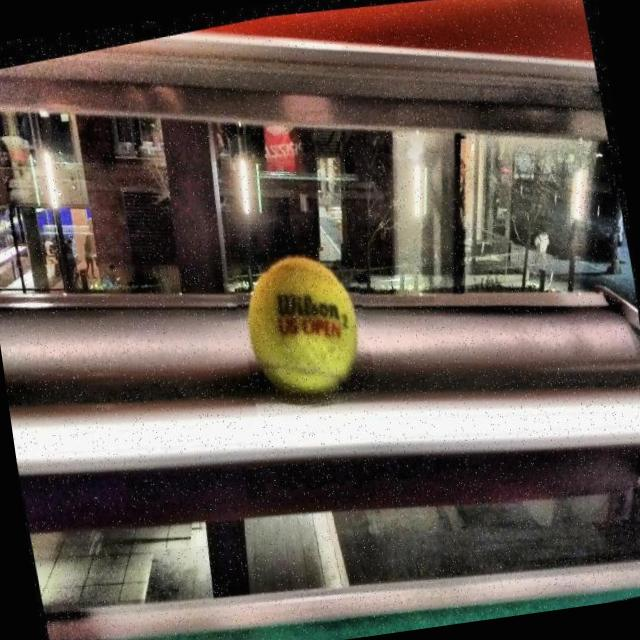Tennis Ball: (229, 234, 384, 421)
